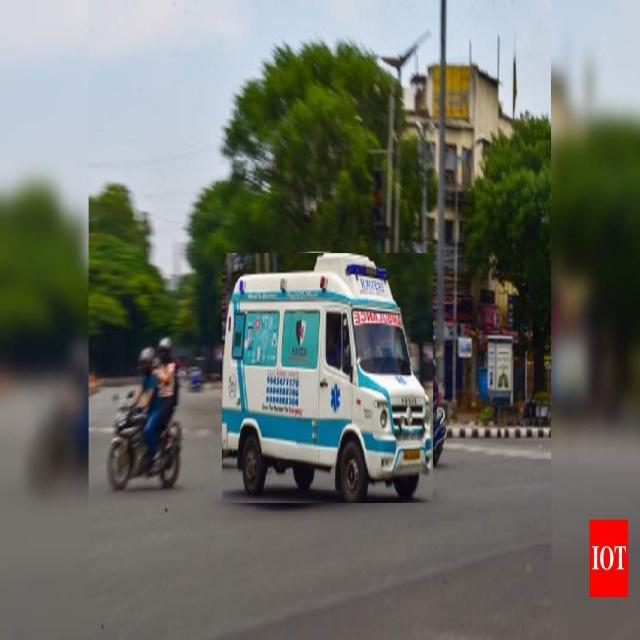emergency: (222, 254, 432, 503)
motorcycle: (108, 339, 181, 491)
